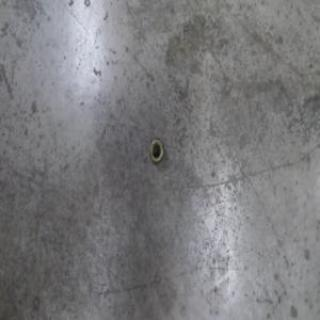Nuttrack_idkeyframe: (148, 134, 164, 165)
